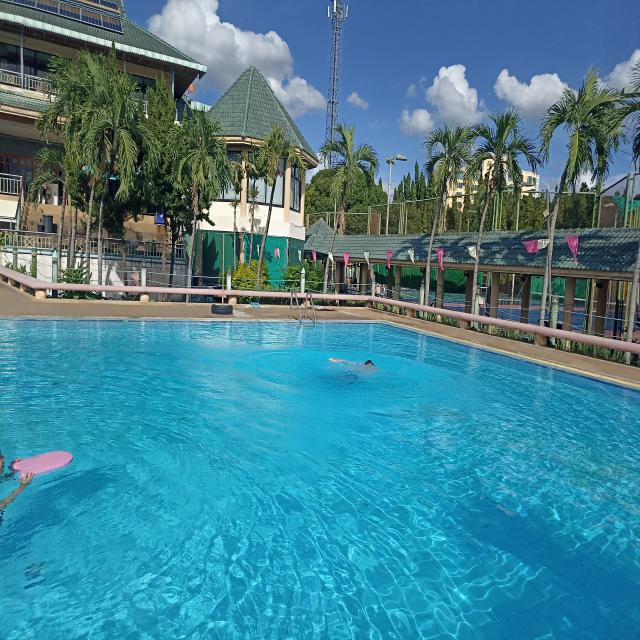Drowning: (325, 354, 388, 376)
